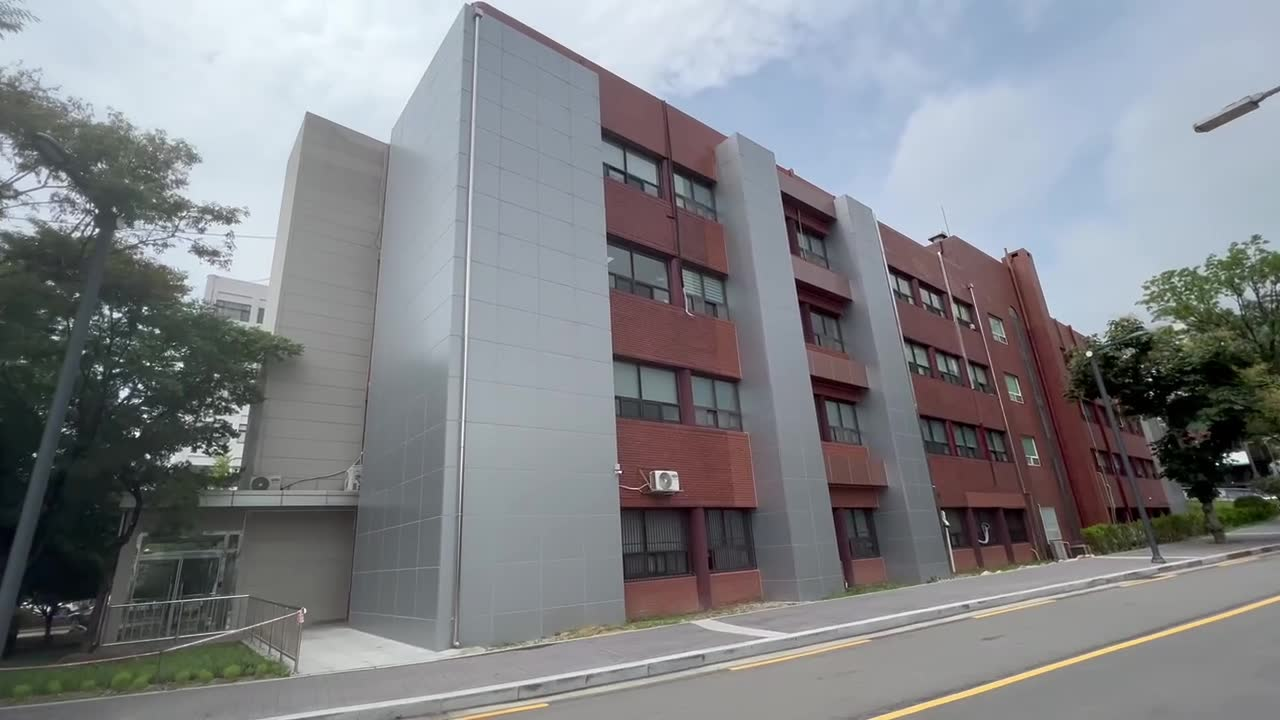low: (397, 83, 1079, 567)
